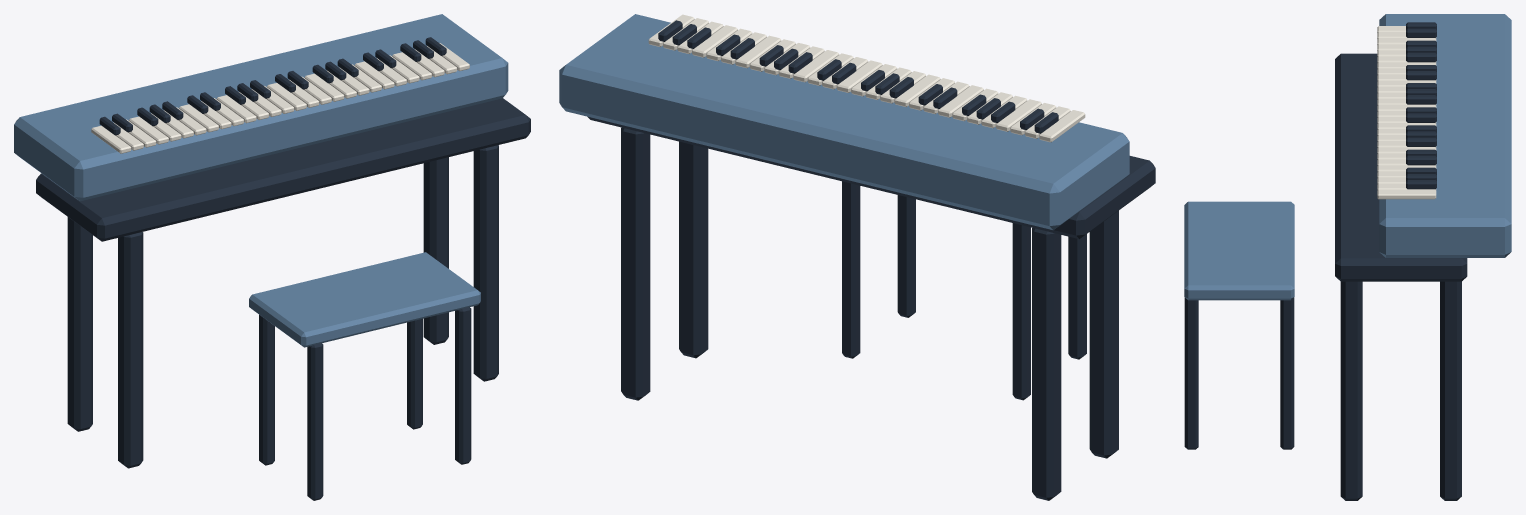
Rendered from lounge_06.glb.
The picture shows the model from 3 angles, left to right: view 1: azimuth 30°, elevation 25°; view 2: azimuth 150°, elevation 25°; view 3: azimuth 270°, elevation 25°; orthographic projection. The views are drawn at different scales.
Visible parts, largest first — view 1: PianoBody, TableTop, Leg (×4), BenchSeat, BenchLeg (×4); view 2: PianoBody, Leg (×4), BenchLeg (×4), TableTop, WhiteKey; view 3: PianoBody, TableTop, BenchSeat, Leg (×2), BenchLeg (×2), WhiteKey.
Part boxes in pixels (box(x1,y1,x2,y2)): PianoBody: box(14, 14, 508, 201); TableTop: box(36, 98, 530, 241); Leg (×4): box(67, 145, 498, 468); BenchSeat: box(249, 252, 480, 347); BenchLeg (×4): box(259, 307, 471, 500); PianoBody: box(559, 14, 1129, 230); Leg (×4): box(621, 127, 1118, 500); BenchLeg (×4): box(842, 181, 1086, 400); TableTop: box(587, 116, 1155, 239); WhiteKey: box(1039, 110, 1085, 142); PianoBody: box(1379, 14, 1511, 257); TableTop: box(1335, 53, 1467, 281); BenchSeat: box(1184, 201, 1294, 300); Leg (×2): box(1340, 281, 1461, 500); BenchLeg (×2): box(1184, 297, 1294, 449); WhiteKey: box(1377, 189, 1436, 199).
Size of the model in its own units: 1.35 by 0.9315 by 0.89.
